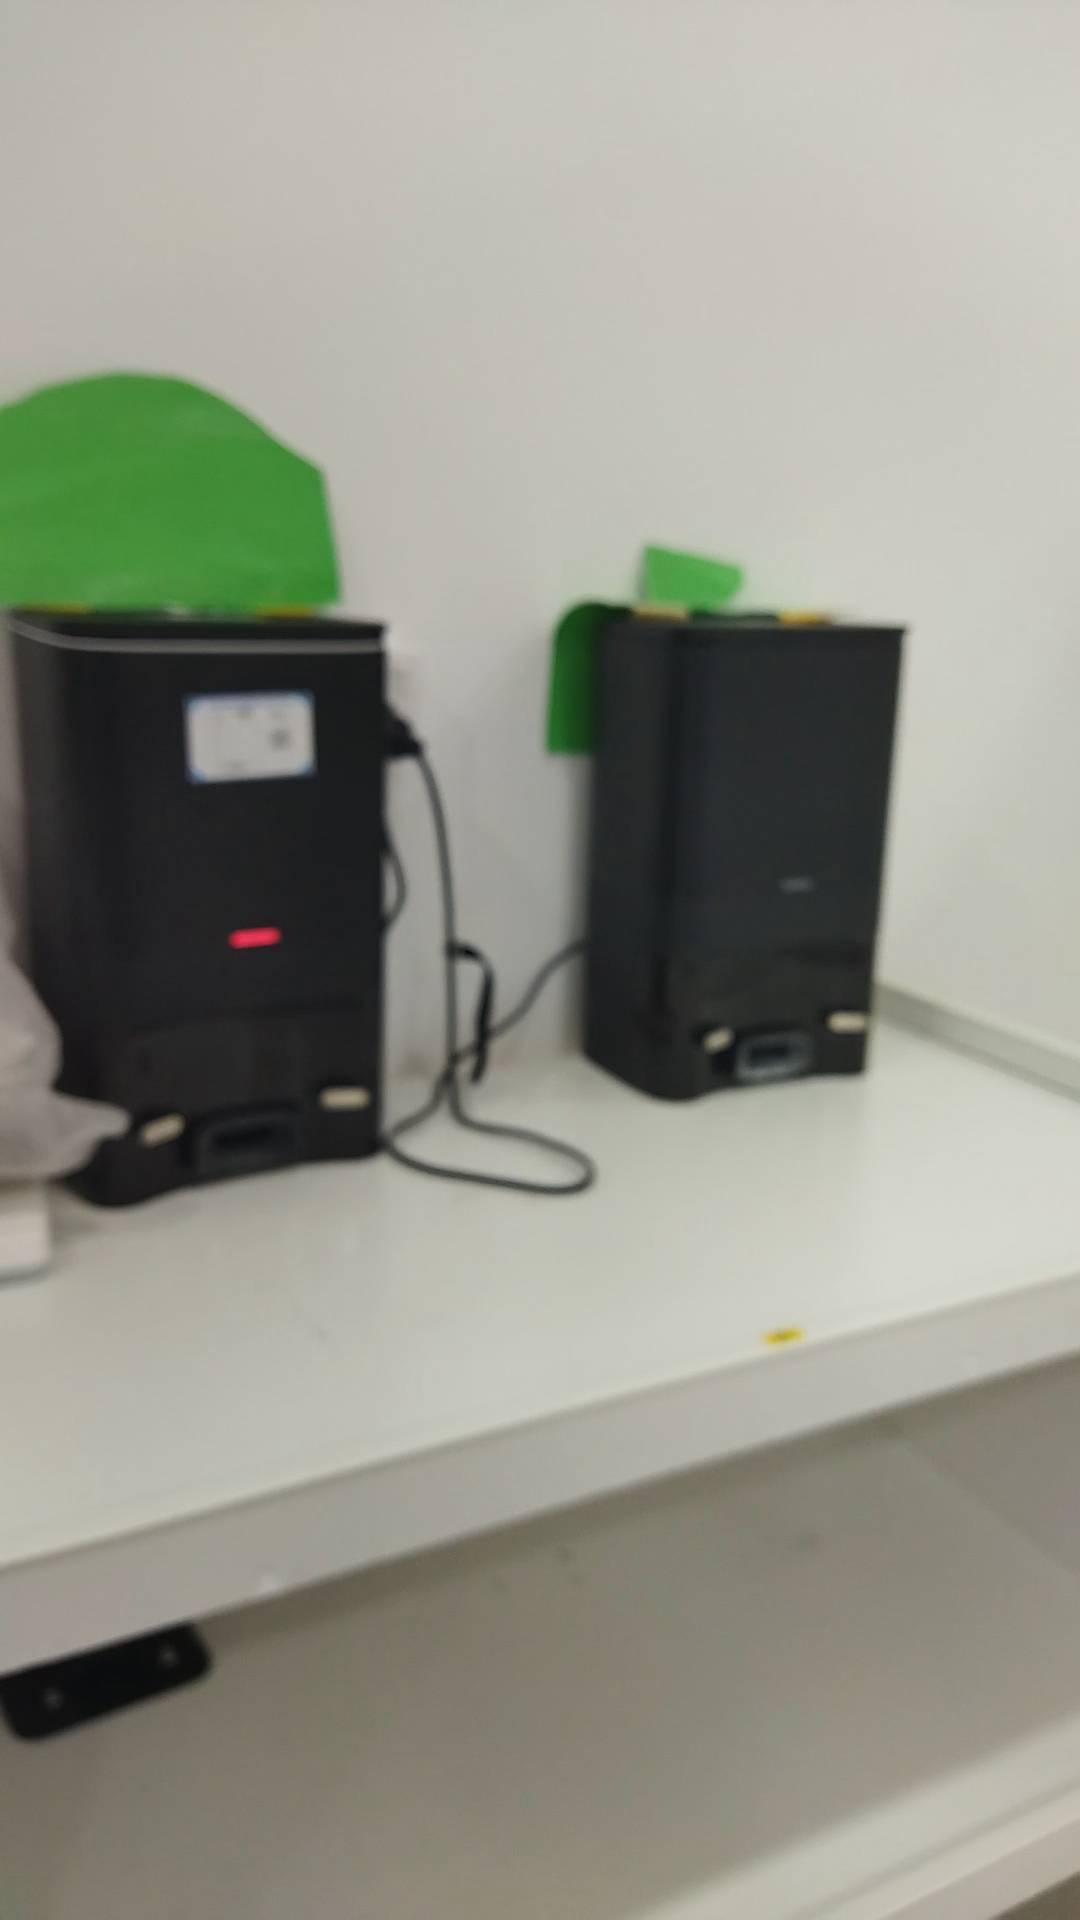dust collecting barrel: (15, 615, 385, 1215), (583, 604, 903, 1102)
